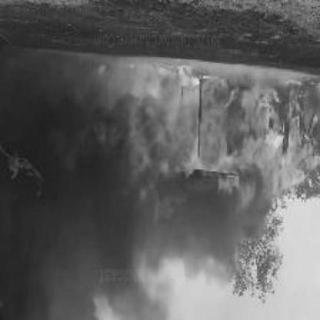Fire: (37, 48, 311, 208)
Smoke: (8, 172, 244, 316)
